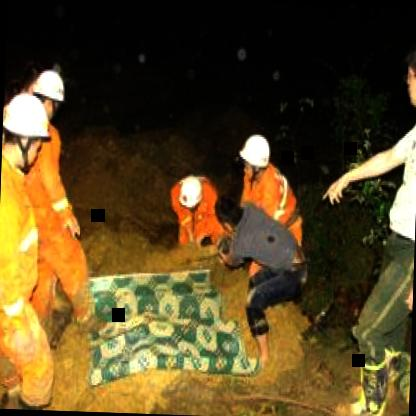head: (212, 193, 242, 234), (401, 38, 416, 111)
helmet: (1, 90, 52, 174), (30, 69, 68, 122), (238, 130, 273, 181), (172, 172, 209, 214)
